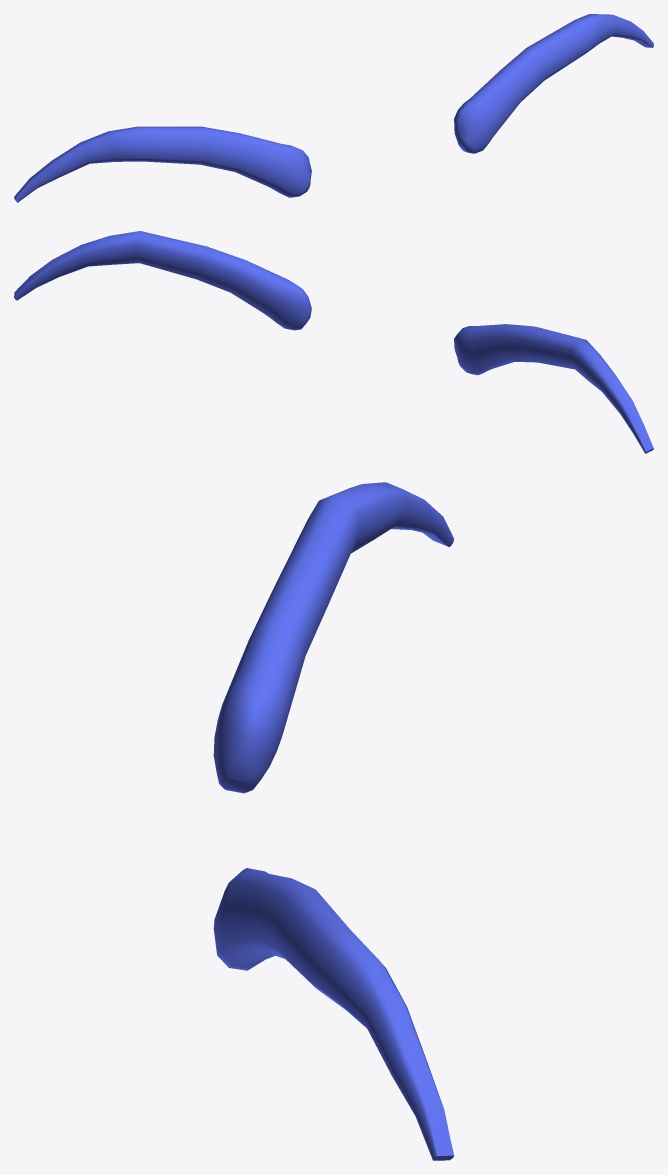
The model's file is Eyebrows_04_03.fbx.
The picture shows the model from 3 angles, top to bottom: view 1: azimuth 30°, elevation 25°; view 2: azimuth 150°, elevation 25°; view 3: azimuth 270°, elevation 25°; orthographic projection. The views are drawn at different scales.
Visible parts, largest first — view 1: Eyebrows_04_03; view 2: Eyebrows_04_03; view 3: Eyebrows_04_03.
Boxes of the visible parts, bbox=[...] form: Eyebrows_04_03: bbox=[14, 14, 653, 202]; Eyebrows_04_03: bbox=[14, 231, 653, 453]; Eyebrows_04_03: bbox=[213, 482, 454, 1160].
Bounding box in the file's own units: 19.76 × 2.45 × 3.22.
